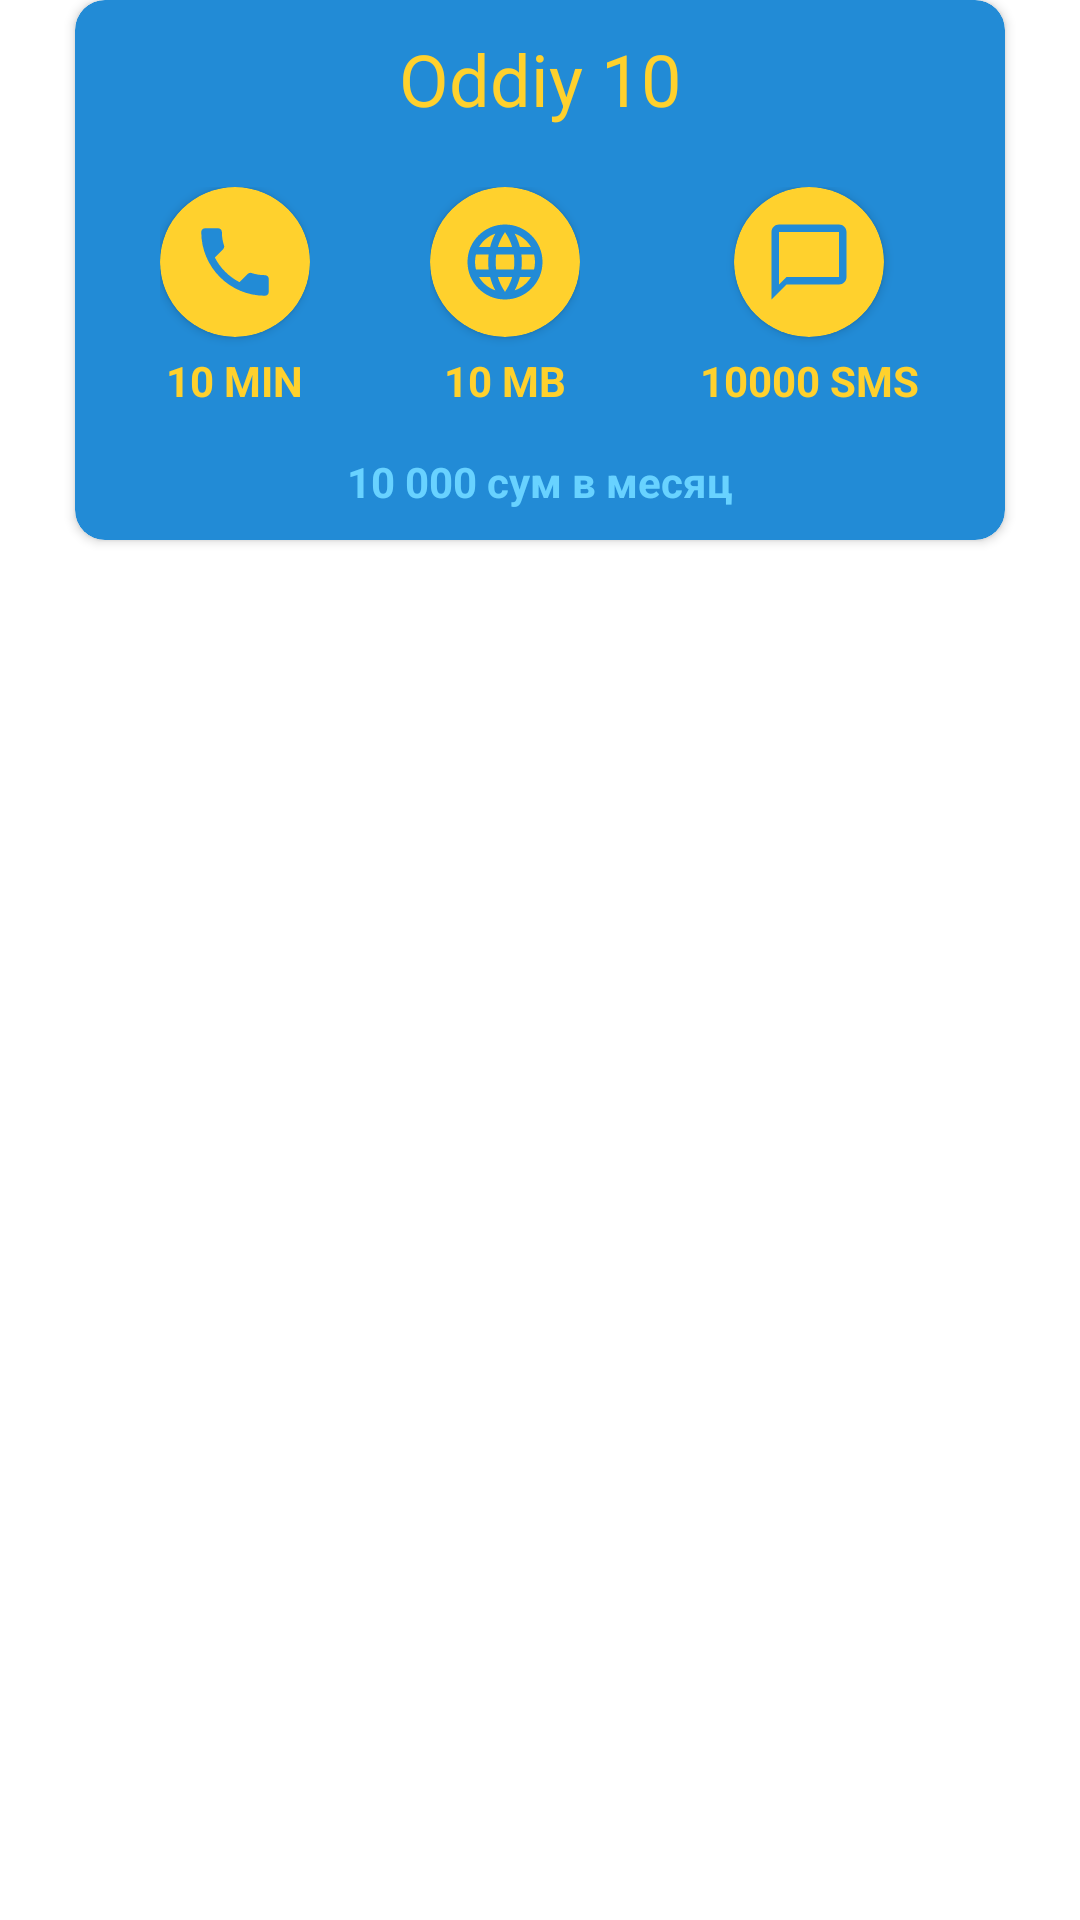

Named icons in this screenshot (1080px×1920px) and their bounding boxes, box=[x1, y1, x2, y2]:
chat: box=[771, 224, 847, 300]
language: box=[467, 224, 543, 300]
phone: box=[201, 228, 269, 296]
